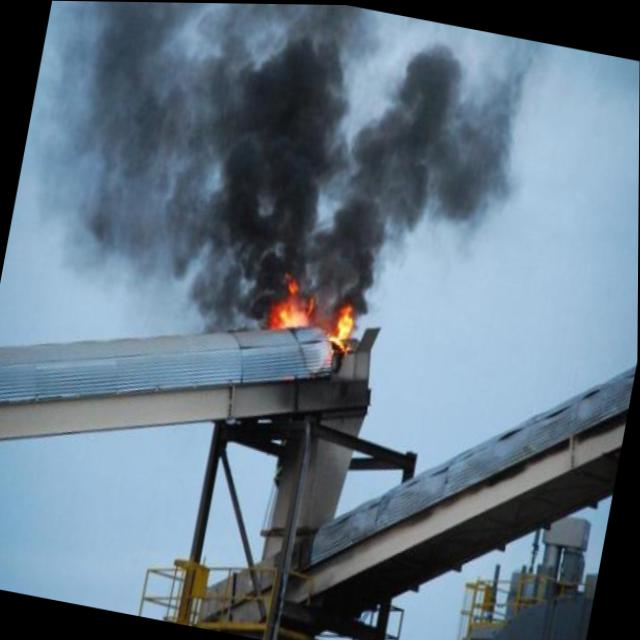fire: (259, 259, 326, 344), (322, 292, 361, 359)
